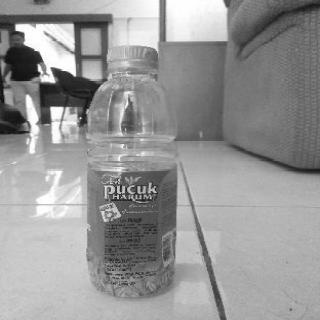plastic_bottles: (83, 43, 185, 302)
